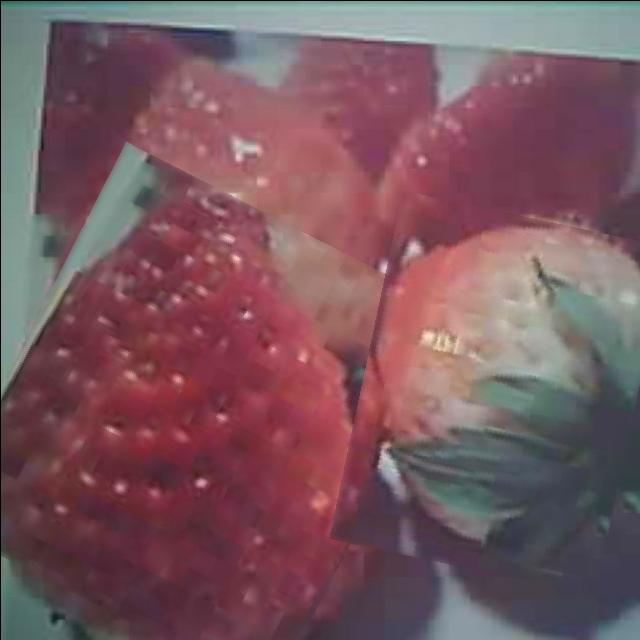strawberry: (0, 172, 428, 640), (345, 202, 640, 582)
